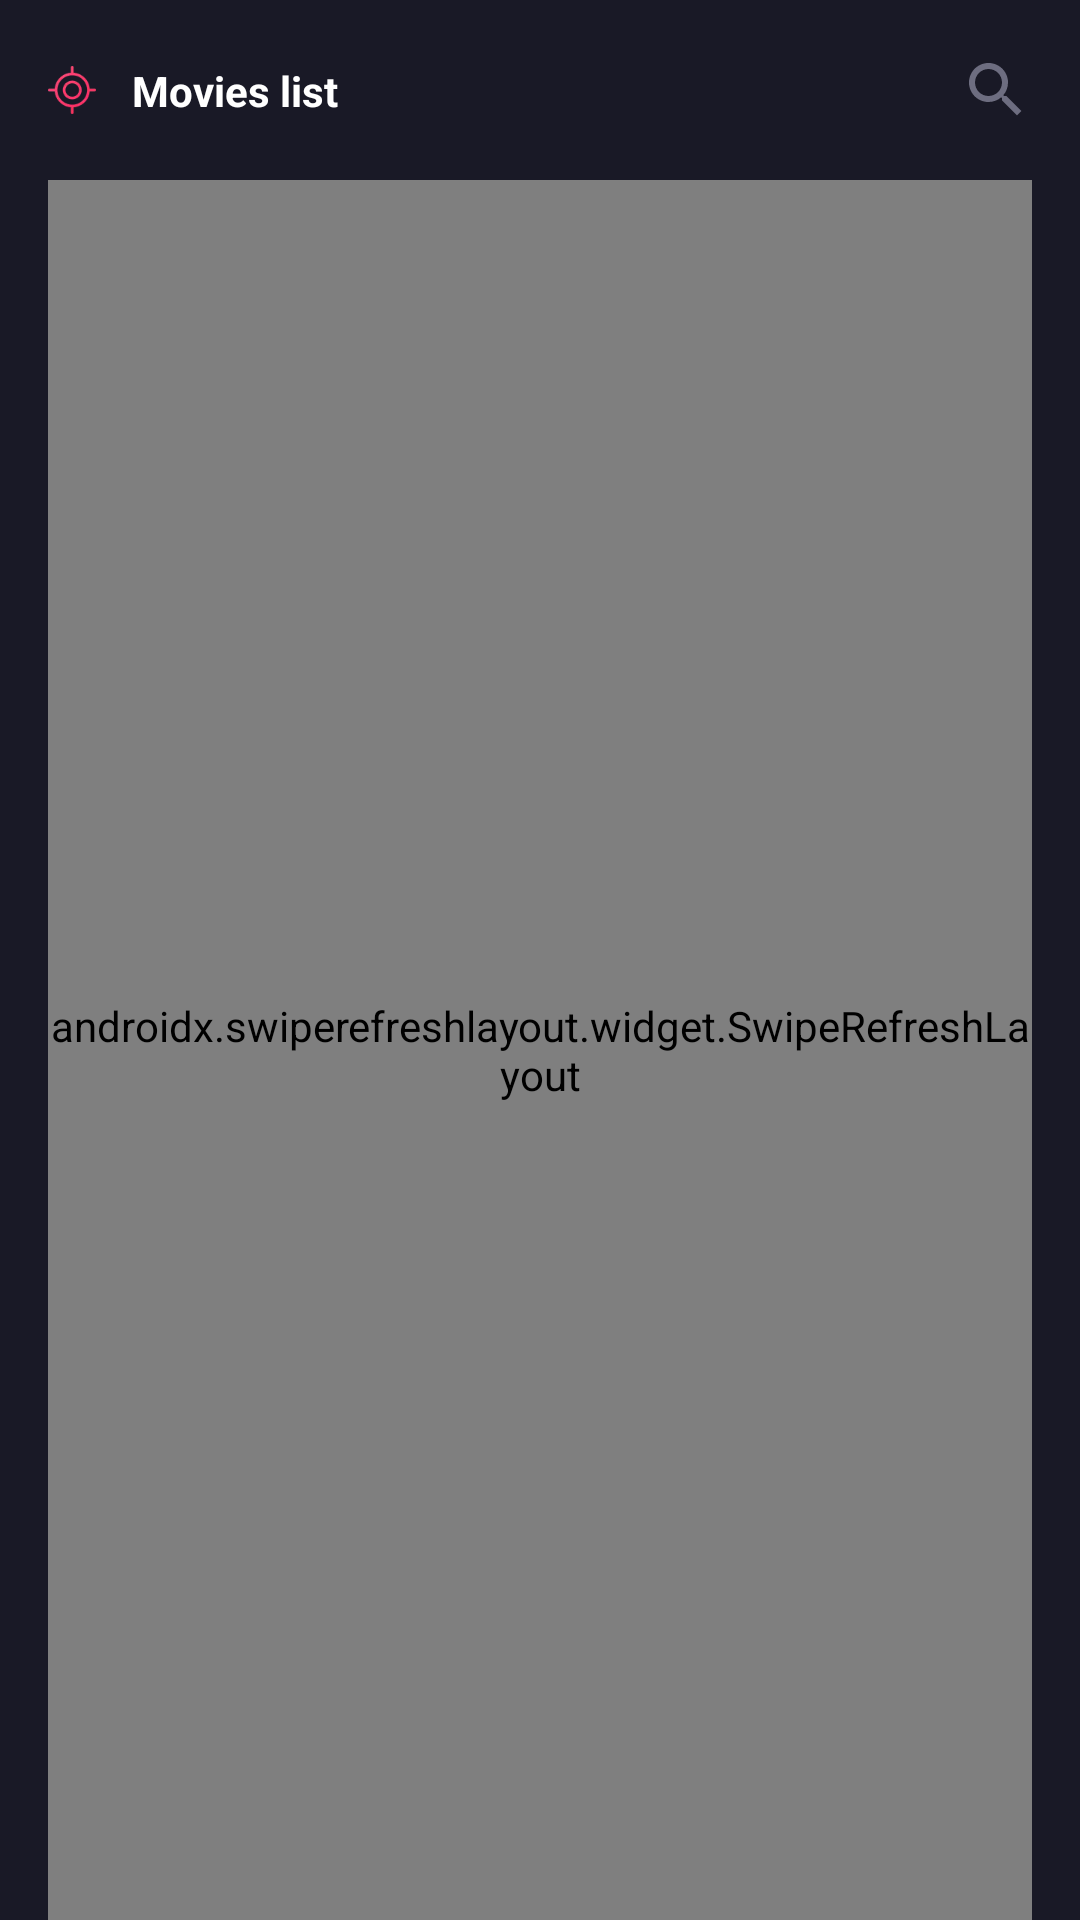

Named icons in this screenshot (1080 x 1920) and their bounding boxes, bbox=[x1, y1, x2, y2]:
search: bbox=[969, 63, 1021, 115]
